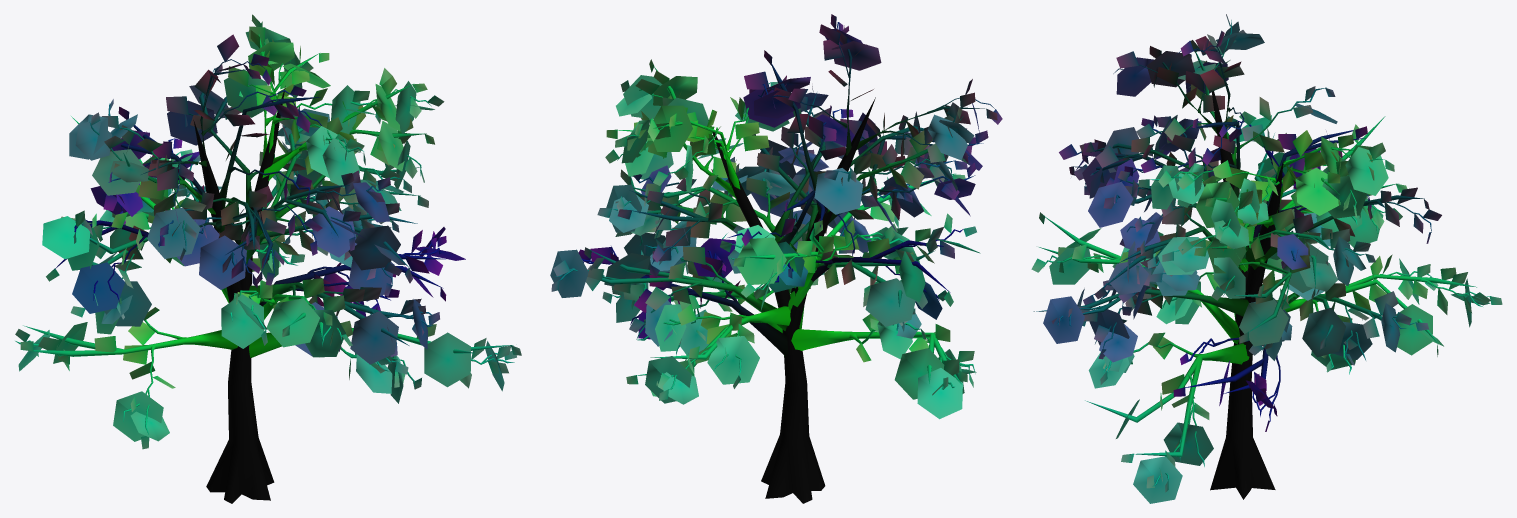
Rendered from Oak Two.fbx.
3 views of the same model, side by side, from view 1: azimuth 30°, elevation 25°; view 2: azimuth 150°, elevation 25°; view 3: azimuth 270°, elevation 25° (orthographic). The views are drawn at different scales.
Parts seen in each view (by area): view 1: leaf oak_1, _0; view 2: leaf oak_1, _0; view 3: leaf oak_1, _0.
Part boxes in pixels (x1,y1,x2,y2): leaf oak_1: [15, 14, 521, 449]; _0: [15, 34, 514, 503]; leaf oak_1: [550, 14, 1002, 419]; _0: [555, 22, 994, 503]; leaf oak_1: [1031, 14, 1502, 503]; _0: [1033, 20, 1490, 499].
Bounding box in the file's own units: 1364 × 1408 × 1356.
